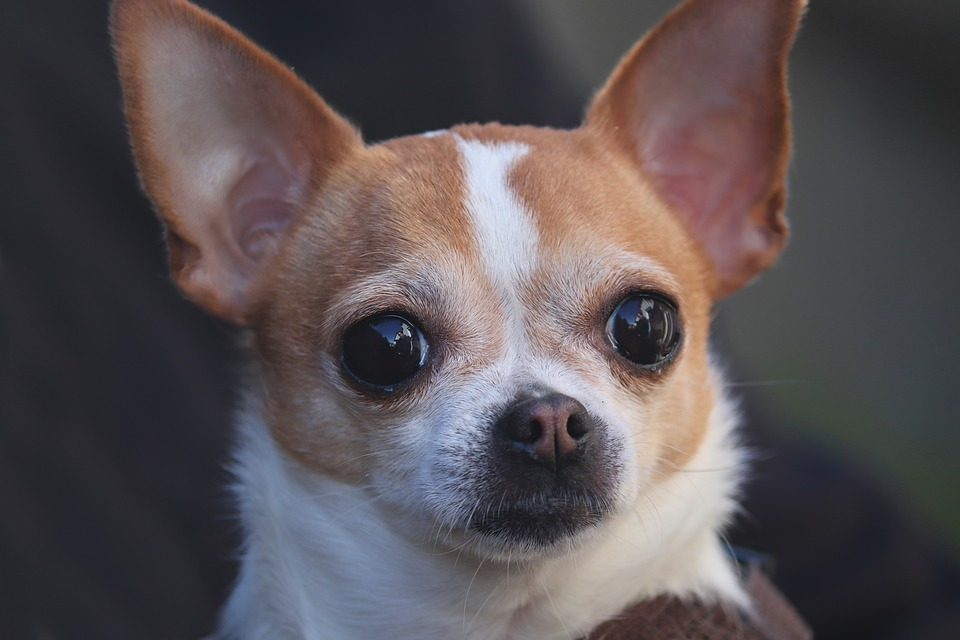Chihuahua: (92, 7, 832, 638)
